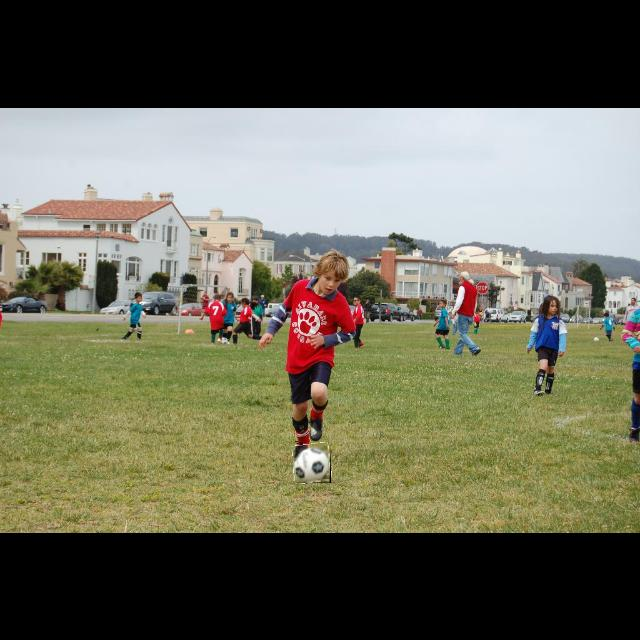Football: (293, 443, 331, 483)
